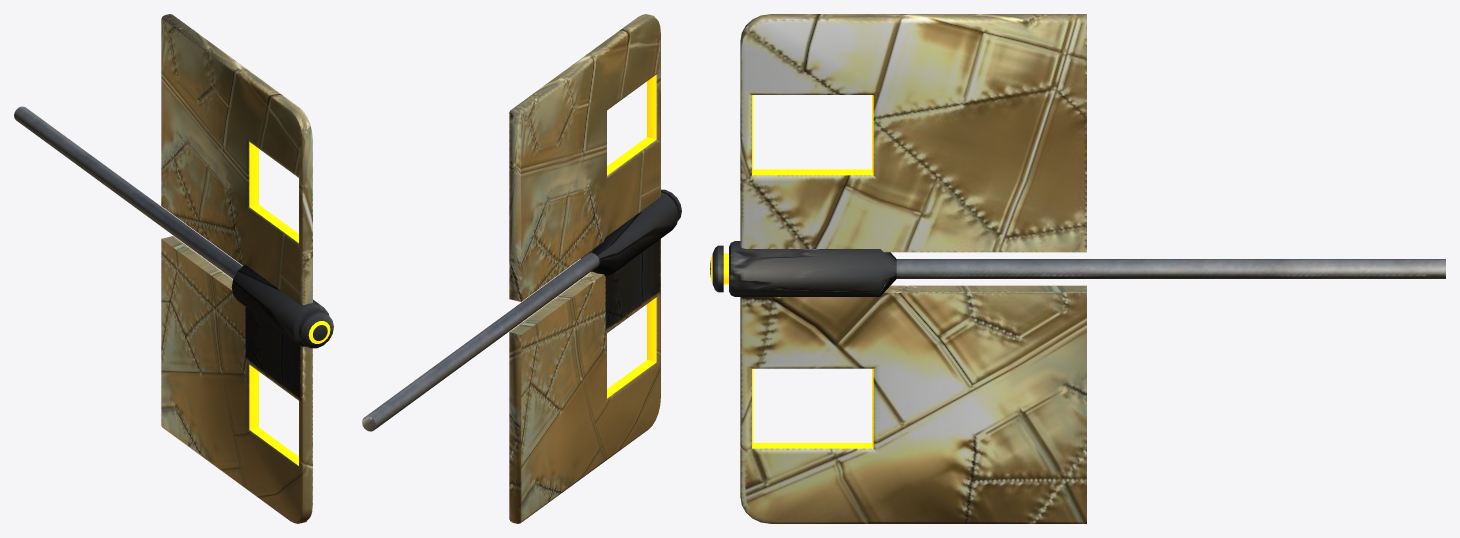
The model's file is floor.02.machine2.gltf.
The picture shows the model from 3 angles, left to right: view 1: azimuth 30°, elevation 25°; view 2: azimuth 150°, elevation 25°; view 3: azimuth 270°, elevation 25°; orthographic projection. The views are drawn at different scales.
Visible parts, largest first — view 1: floor.02.machine.03; view 2: floor.02.machine.03; view 3: floor.02.machine.03.
Part boxes in pixels (x1,y1,x2,y2): floor.02.machine.03: (14,14,333,523); floor.02.machine.03: (362,14,681,523); floor.02.machine.03: (710,14,1445,523).
Size of what is drawn, in the model's own units: 1 by 10 by 13.16.
Materials: 2 (1 with a texture image).
